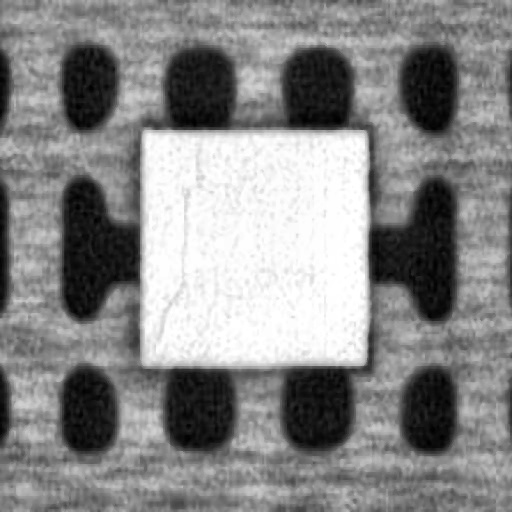DIE_CRACK: (151, 188, 191, 345)
